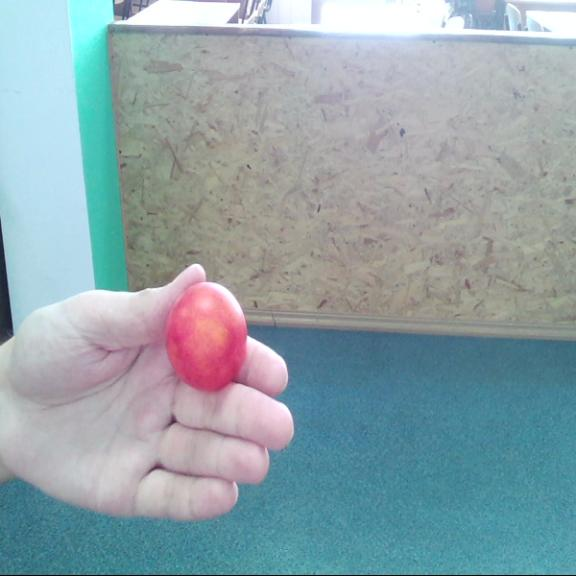ball: (170, 280, 244, 389)
